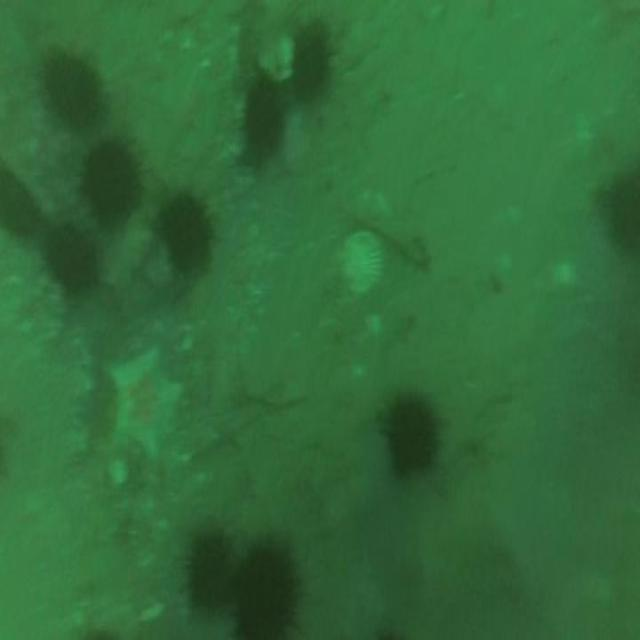echinus: (73, 128, 152, 245), (229, 520, 305, 634), (149, 172, 223, 289), (374, 378, 446, 490), (170, 506, 236, 627), (36, 38, 114, 139), (282, 6, 340, 117), (46, 201, 103, 303), (235, 69, 287, 166), (0, 155, 40, 248)
scallop: (340, 221, 382, 305)
starfish: (102, 351, 182, 468)
